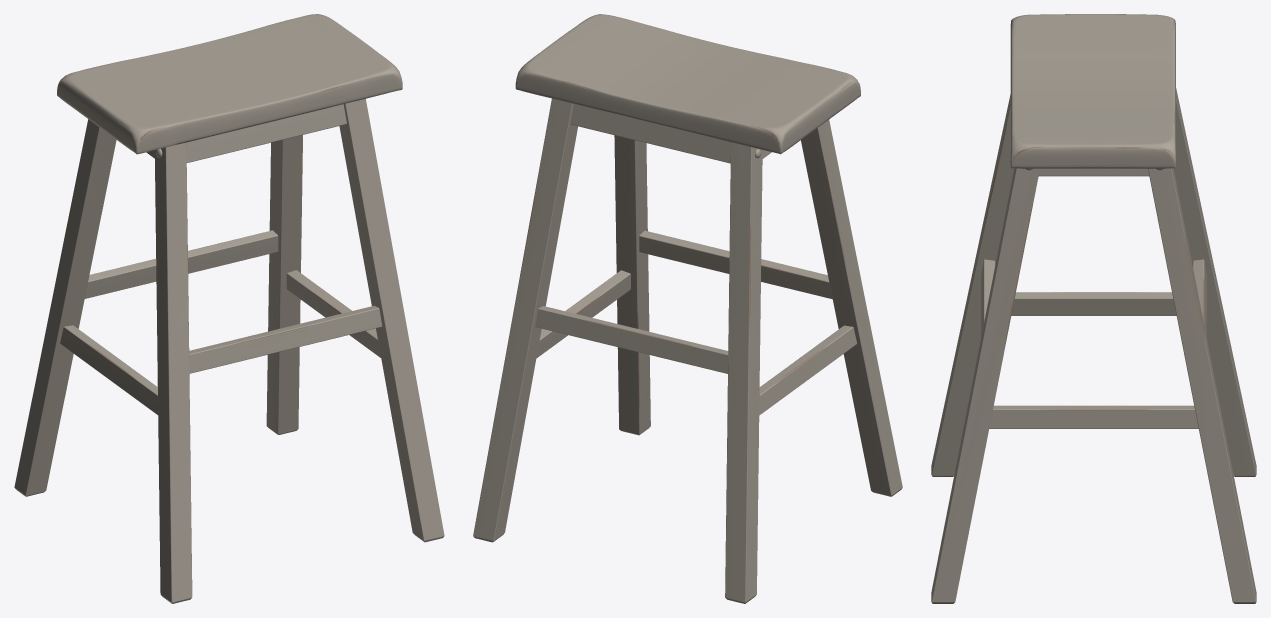
Rendered from abo-B07B7B3CVQ.glb.
3 renders of one model, left to right at view 1: azimuth 30°, elevation 25°; view 2: azimuth 150°, elevation 25°; view 3: azimuth 270°, elevation 25°, orthographic. The views are drawn at different scales.
Bounding box in the file's own units: 0.476 × 0.737 × 0.476.
Materials: 1 (1 with a texture image).
